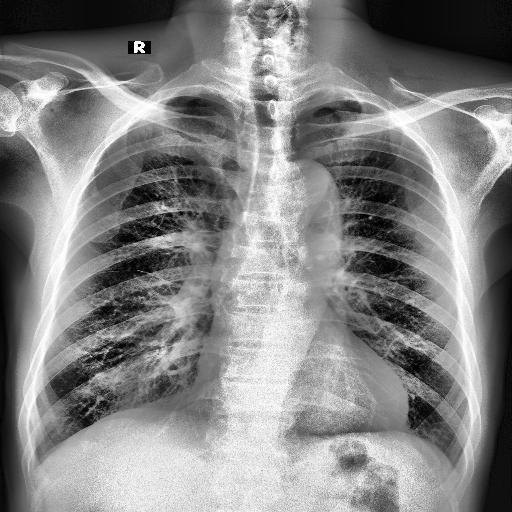0- Aortic enlargement: (278, 158, 344, 228), (284, 158, 340, 236), (276, 158, 342, 214)
8- Nodule-Mass: (92, 186, 100, 198)
